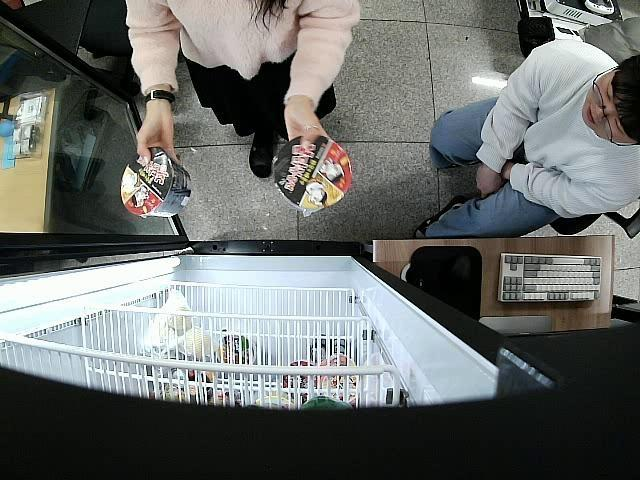07_buldak_L: (272, 132, 352, 212), (122, 147, 192, 220)
